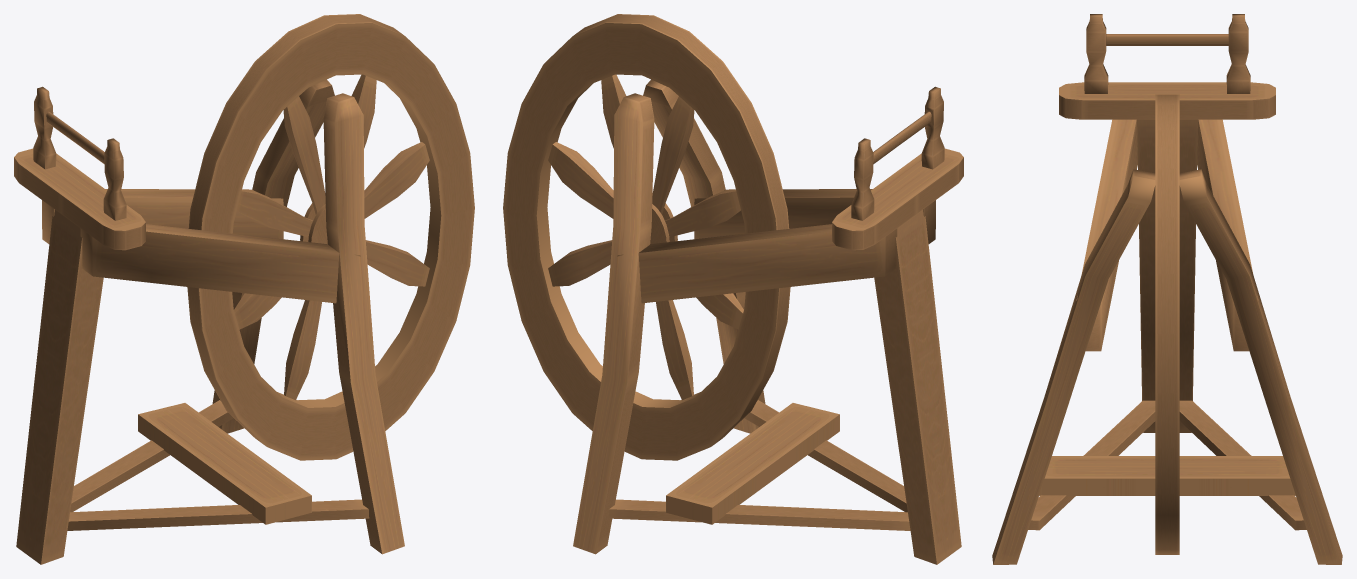
File: SpinningWheel_Hand.fbx
The picture shows the model from 3 angles, left to right: view 1: azimuth 30°, elevation 25°; view 2: azimuth 150°, elevation 25°; view 3: azimuth 270°, elevation 25°; orthographic projection.
Visible parts, largest first — view 1: SpinningWheelMachine (1), SpinningWheel (1); view 2: SpinningWheelMachine (1), SpinningWheel (1); view 3: SpinningWheelMachine (1), SpinningWheel (1).
Boxes of the visible parts, box(x1,y1,x2,y2) form: SpinningWheelMachine (1): box(14, 79, 404, 564); SpinningWheel (1): box(187, 14, 474, 460); SpinningWheelMachine (1): box(573, 79, 963, 564); SpinningWheel (1): box(503, 14, 790, 460); SpinningWheelMachine (1): box(992, 14, 1342, 564); SpinningWheel (1): box(1155, 94, 1179, 554).
Bounding box in the file's own units: 0.9927 × 0.9971 × 0.6767.
